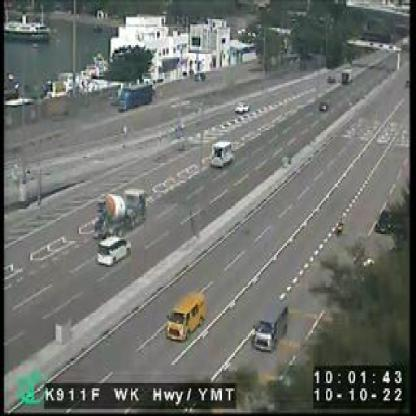Car: (166, 290, 206, 344), (250, 297, 288, 351), (97, 233, 134, 266), (209, 140, 235, 169), (236, 99, 252, 114), (320, 98, 332, 112)
Truck: (89, 188, 147, 244), (116, 83, 156, 113), (339, 67, 353, 85)
